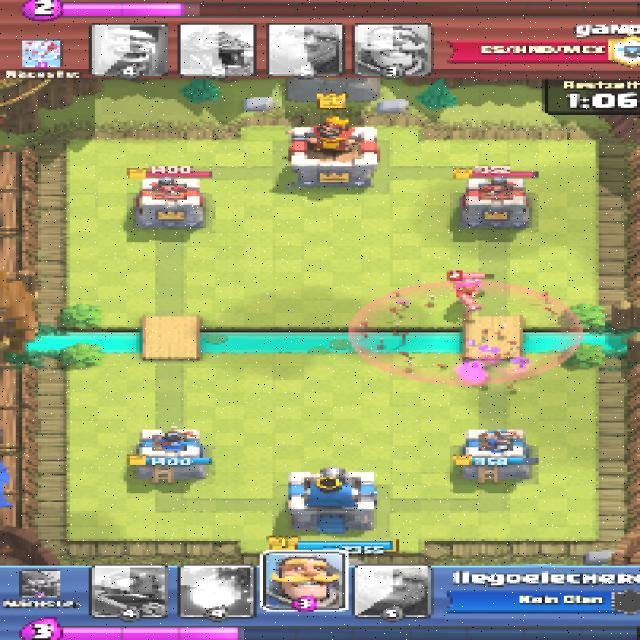Enemy-Musketeer: (448, 276, 491, 309)
Player-Arrow: (350, 278, 581, 385)
